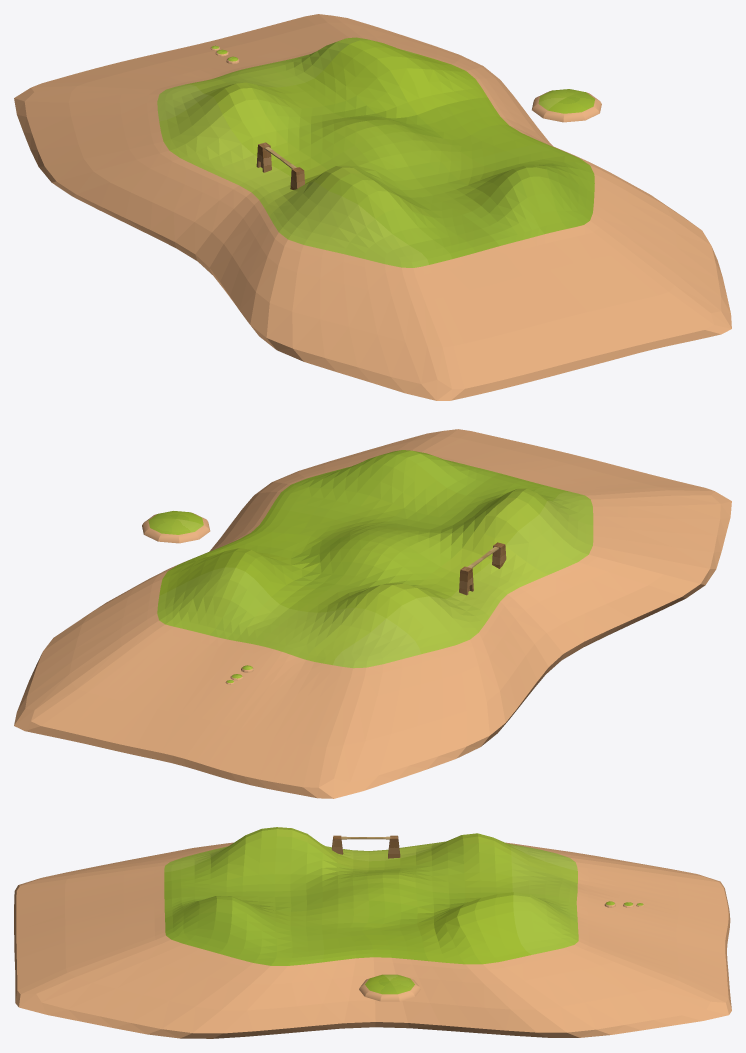
File: Palmed Shores.fbx
The picture shows the model from 3 angles, top to bottom: view 1: azimuth 30°, elevation 25°; view 2: azimuth 150°, elevation 25°; view 3: azimuth 270°, elevation 25°; orthographic projection. The views are drawn at different scales.
Visible parts, largest first — view 1: Plane.001, Sphere.009, Cube.005; view 2: Plane.001, Sphere.009, Cube.005; view 3: Plane.001, Sphere.009, Cube.005.
Part boxes in pixels (x1,y1,x2,y2): Plane.001: [14, 14, 731, 400]; Sphere.009: [532, 89, 601, 122]; Cube.005: [256, 142, 304, 189]; Plane.001: [14, 429, 731, 798]; Sphere.009: [142, 511, 210, 543]; Cube.005: [459, 542, 506, 595]; Plane.001: [14, 827, 731, 1038]; Sphere.009: [359, 974, 420, 1001]; Cube.005: [331, 835, 400, 858].
Size of what is drawn, in the model's own units: 73823 by 16361 by 121046.
4 materials, 4 textured.
